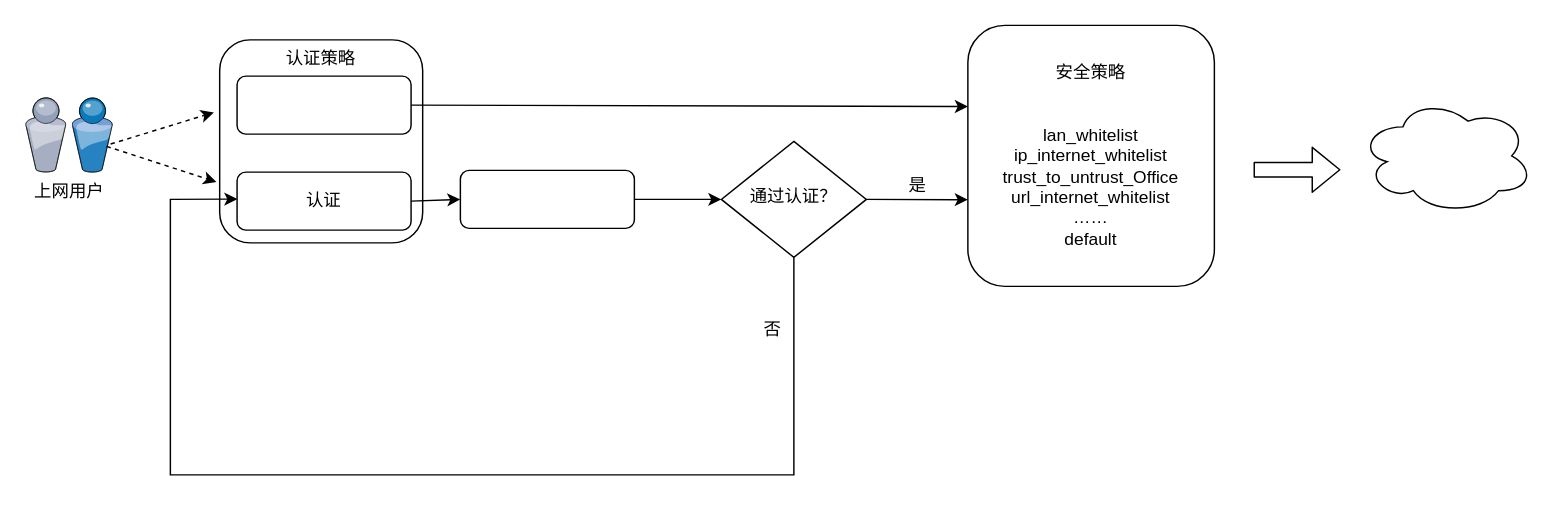
Image size: 1559x512. Some labels were removed from this diagram. Each missing label, with the centre of its shape:
INTERNET: pixel 1445 155
LDAP服务器认证: pixel 546 198
免认证: pixel 323 104
